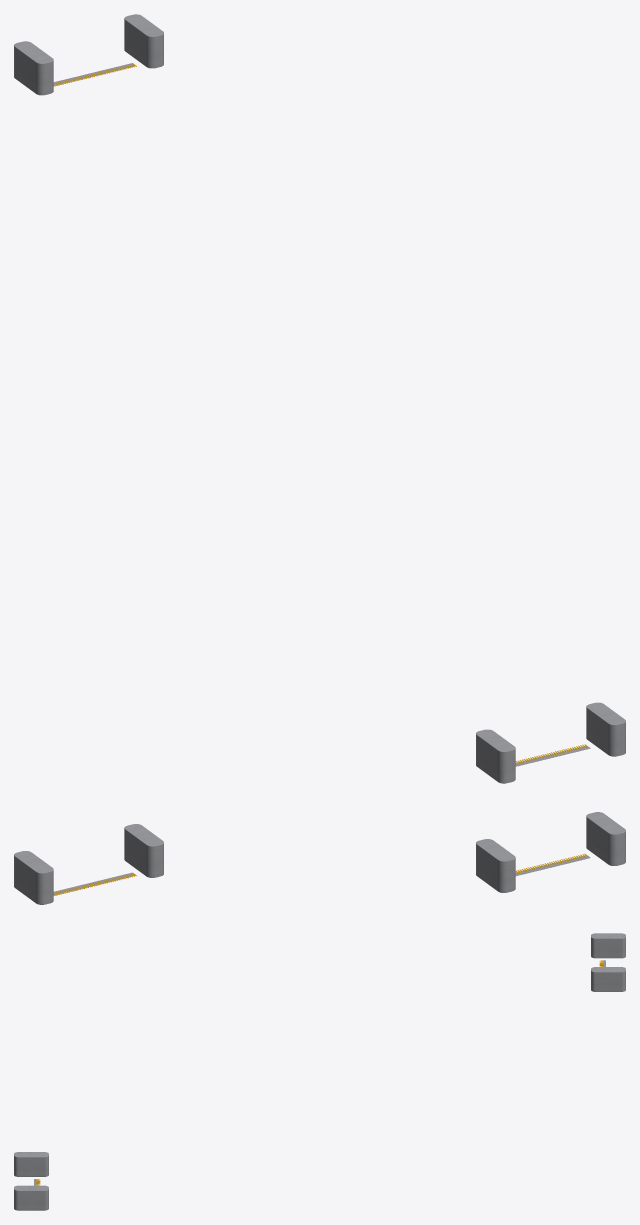
Rendered from gteki_escalator_dress_s1000_r4000_comb_newel.glb.
3 renders of one model, top to bottom at view 1: azimuth 30°, elevation 25°; view 2: azimuth 210°, elevation 25°; view 3: azimuth 270°, elevation 25°, orthographic. The views are drawn at different scales.
Visible parts, largest first — view 1: VIS_newel_bases; view 2: VIS_newel_bases, VIS_comb_plates; view 3: VIS_newel_bases.
Part boxes in pixels (<box>): VIS_newel_bases: <box>14,14,625,783</box>; VIS_newel_bases: <box>14,812,625,904</box>; VIS_comb_plates: <box>53,853,590,895</box>; VIS_newel_bases: <box>14,933,625,1210</box>.
Bounding box in the file's own units: 1.52 × 4.38 × 10.15.
2 materials, 1 textured.
